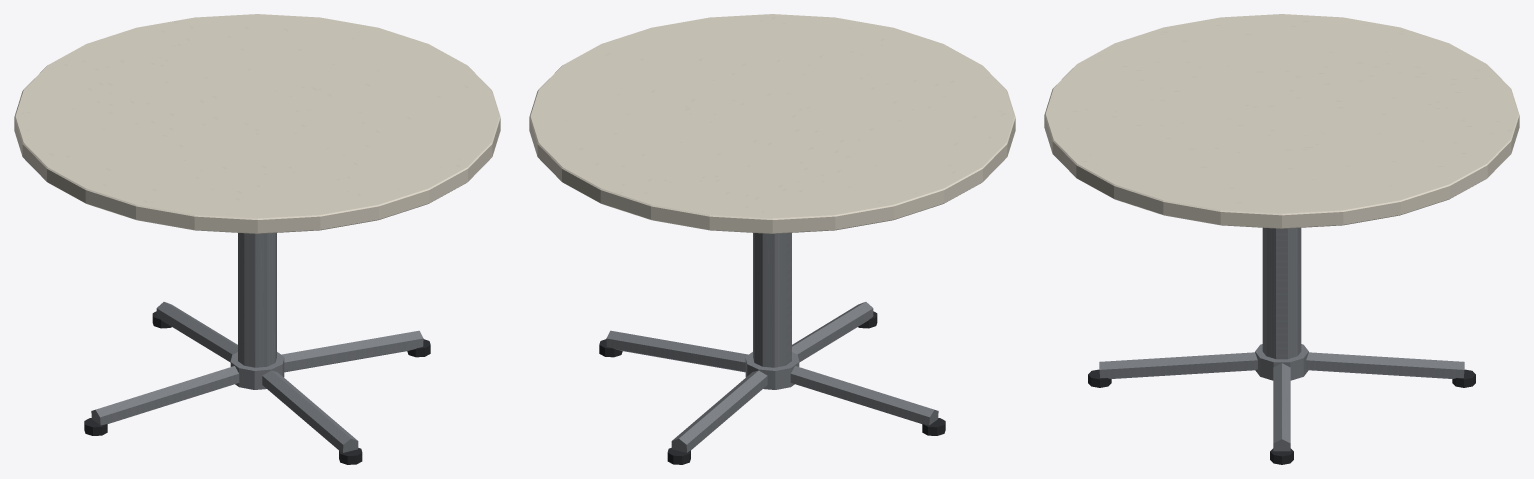
Rendered from party_table_round.glb.
3 views of the same model, side by side, from view 1: azimuth 30°, elevation 25°; view 2: azimuth 150°, elevation 25°; view 3: azimuth 270°, elevation 25° (orthographic). The views are drawn at different scales.
Visible parts, largest first — view 1: party_table_round_body; view 2: party_table_round_body; view 3: party_table_round_body.
Boxes of the visible parts, x1,y1,x2,y2 form: party_table_round_body: (14, 14, 500, 464); party_table_round_body: (529, 14, 1015, 464); party_table_round_body: (1044, 14, 1519, 464).
Size of the model in its own units: 1.2 by 0.75 by 1.2.
3 materials, 3 textured.
